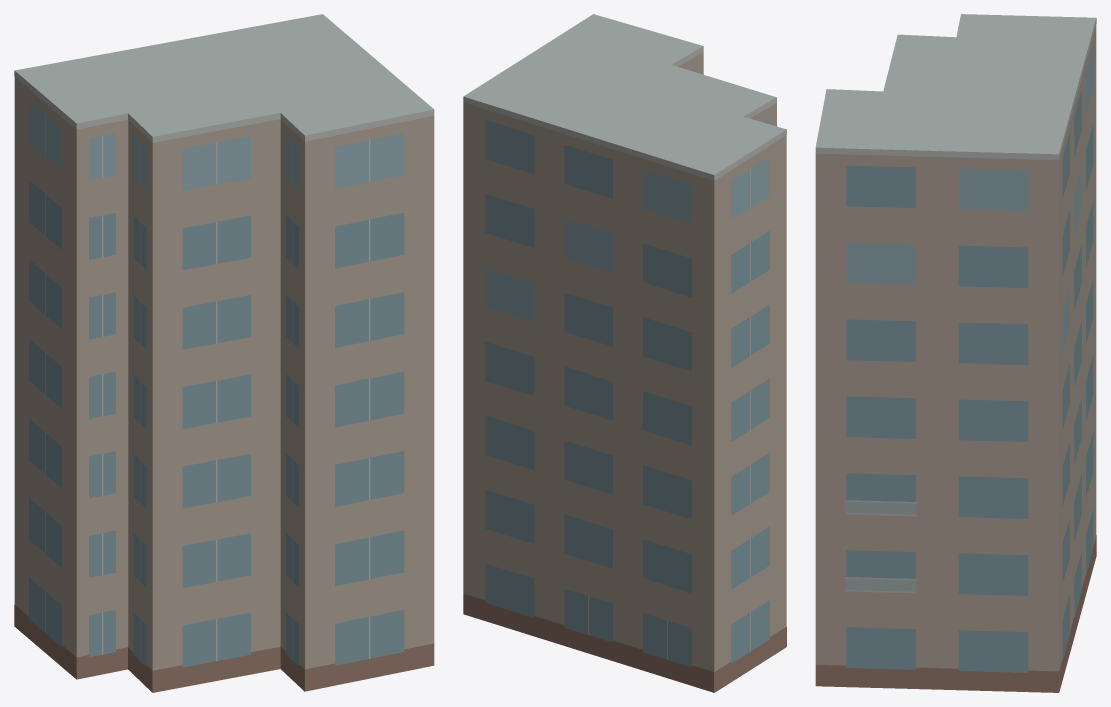
The model's file is survey-upis-32935878.glb.
3 views of the same model, side by side, from view 1: azimuth 30°, elevation 25°; view 2: azimuth 150°, elevation 25°; view 3: azimuth 270°, elevation 25° (orthographic). The views are drawn at different scales.
Visible parts, largest first — view 1: survey-upis-32935878.tmp; view 2: survey-upis-32935878.tmp; view 3: survey-upis-32935878.tmp.
Boxes of the visible parts, bbox=[...] form: survey-upis-32935878.tmp: bbox=[14, 14, 434, 692]; survey-upis-32935878.tmp: bbox=[463, 14, 786, 692]; survey-upis-32935878.tmp: bbox=[815, 14, 1096, 692].
Size of the model in its own units: 12.33 by 22.05 by 10.43.
